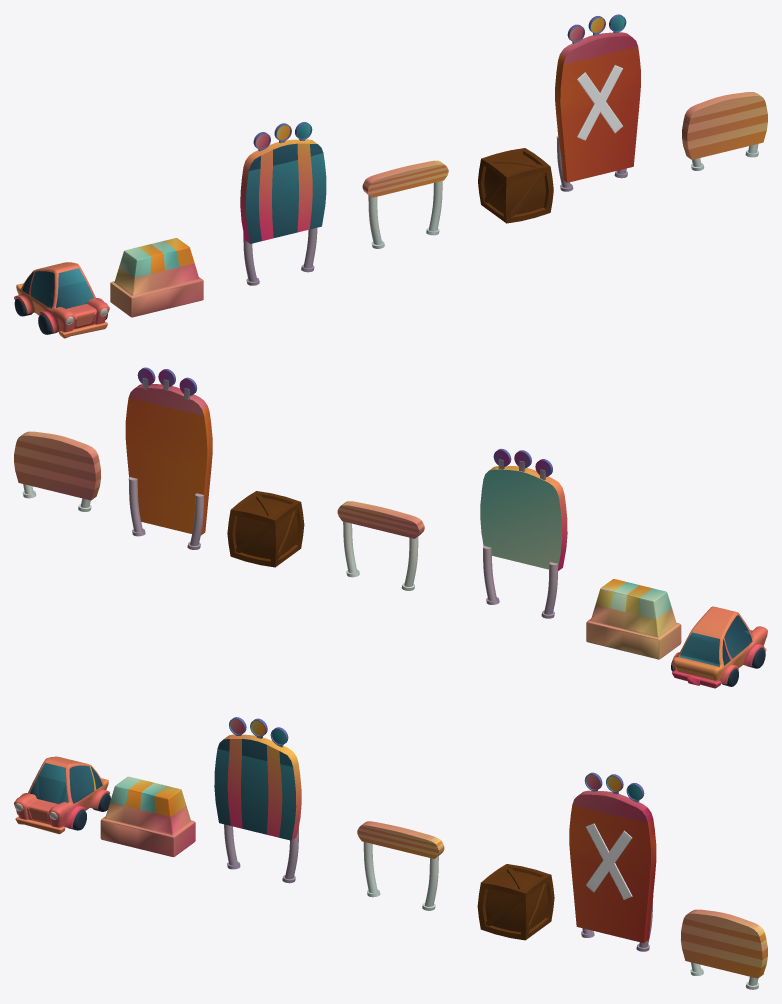
Rendered from OBSTACLES.fbx.
3 renders of one model, top to bottom at view 1: azimuth 30°, elevation 25°; view 2: azimuth 150°, elevation 25°; view 3: azimuth 330°, elevation 25°, orthographic.
Visible parts, largest first — view 1: pCylinder5.001, pCylinder5.005, pCube19, defaultMaterial.004, pCylinder1.004, wooden_box4, pCylinder1.001; view 2: pCylinder5.001, pCylinder5.005, pCube19, defaultMaterial.004, pCylinder1.004, wooden_box4, pCylinder1.001; view 3: pCylinder5.001, pCylinder5.005, pCube19, defaultMaterial.004, pCylinder1.004, wooden_box4, pCylinder1.001.
Part boxes in pixels (x1,y1,x2,y2): pCylinder5.001: (555,14,640,191); pCylinder5.005: (240,122,326,285); pCube19: (110,238,203,317); defaultMaterial.004: (14,262,109,338); pCylinder1.004: (682,92,767,170); wooden_box4: (478,148,553,223); pCylinder1.001: (362,160,448,248); pCylinder5.001: (125,367,212,549); pCylinder5.005: (480,448,567,618); pCube19: (586,579,681,659); defaultMaterial.004: (671,606,767,688); pCylinder1.004: (14,431,101,511); wooden_box4: (227,491,304,567); pCylinder1.001: (337,501,424,590); pCylinder5.001: (569,772,656,951); pCylinder5.005: (214,717,301,883); pCube19: (100,776,195,857); defaultMaterial.004: (14,756,110,834); pCylinder1.004: (681,909,767,989); wooden_box4: (477,864,554,940); pCylinder1.001: (357,821,444,910).
Bounding box in the file's own units: 1771 × 389 × 221.
Materials: 6 (6 with a texture image).
